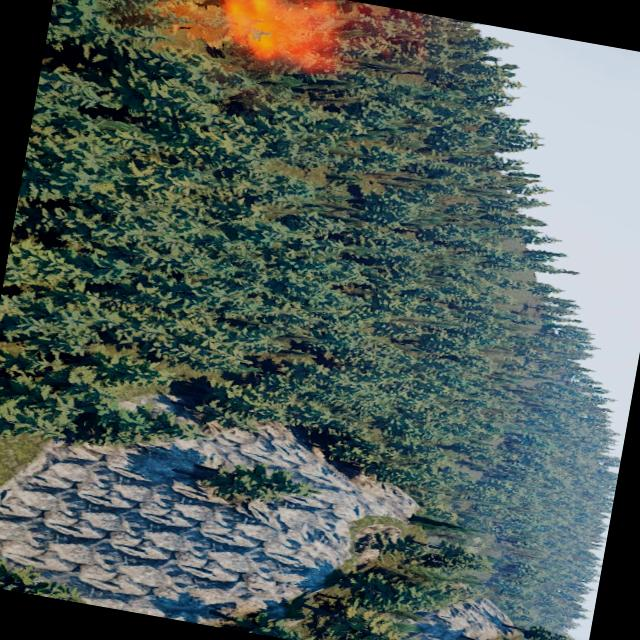fire: (195, 0, 320, 68)
smoke: (125, 0, 431, 88)
